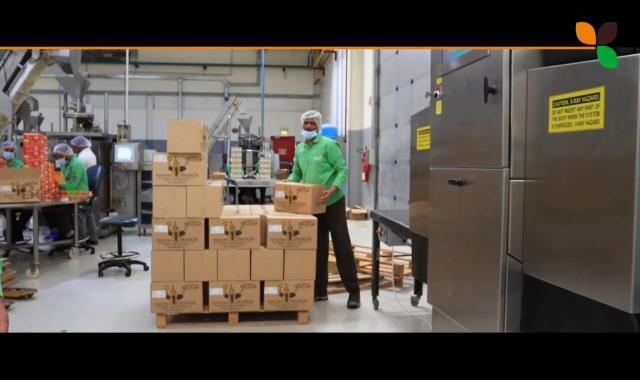hairnet: (300, 108, 324, 138), (50, 142, 73, 161), (71, 135, 94, 151), (2, 139, 16, 160)
